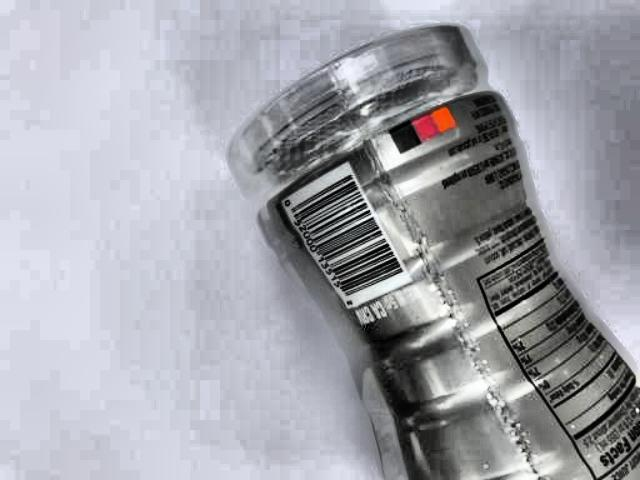Bottles: (99, 9, 619, 480)
